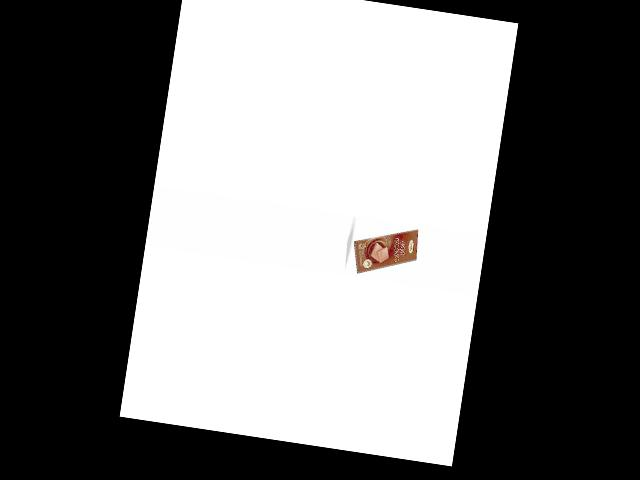chocolate: (345, 219, 422, 283)
